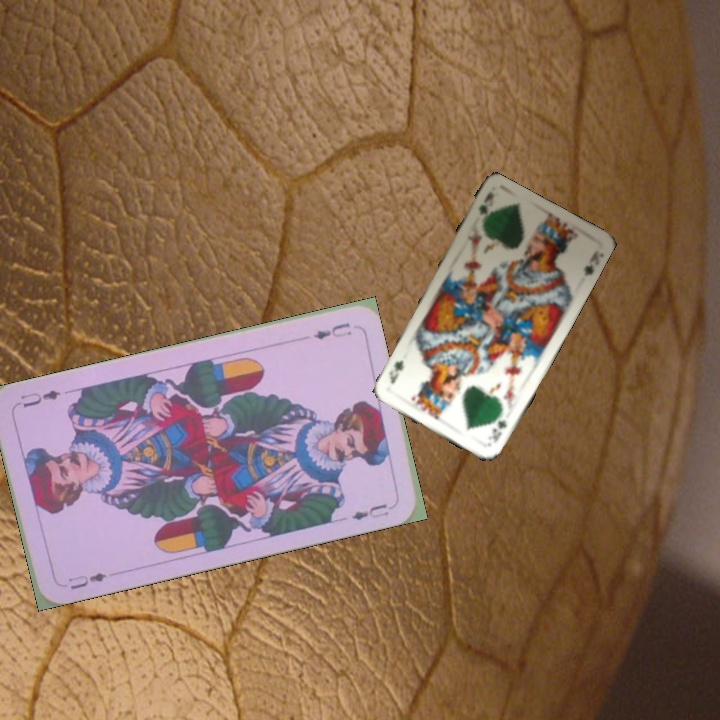EU: (309, 318, 354, 343), (65, 568, 109, 592)
GK: (485, 415, 509, 445), (475, 200, 490, 227)
